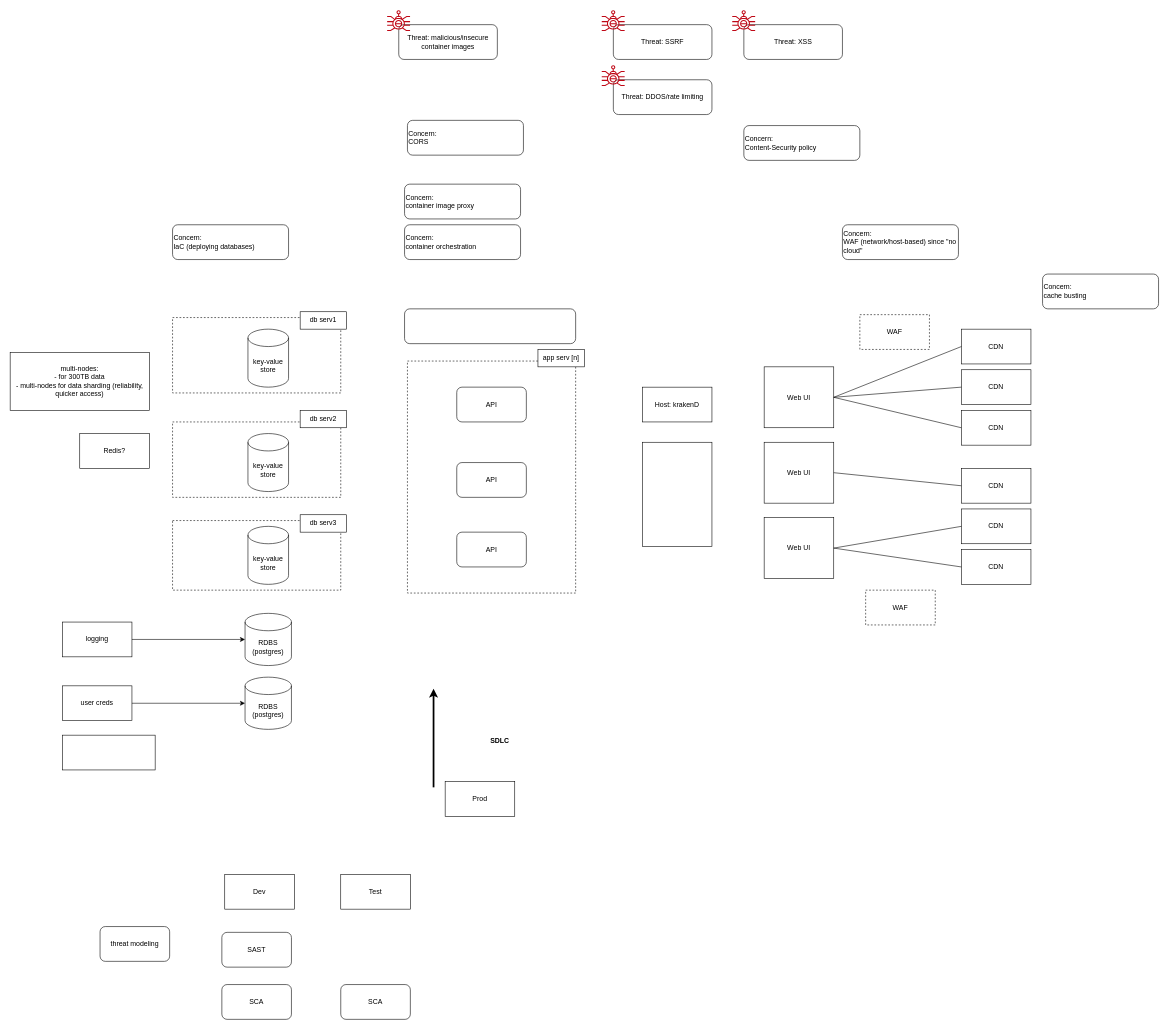
The diagram is 1169 pixels wide and 1030 high, and some of its shapes have lost their labels. Each missing label, with the centre of its shape:
...or some self-hosted password vaulting solution: point (108, 752)
API Gateway: point (677, 494)
Host: Debian: point (490, 326)
